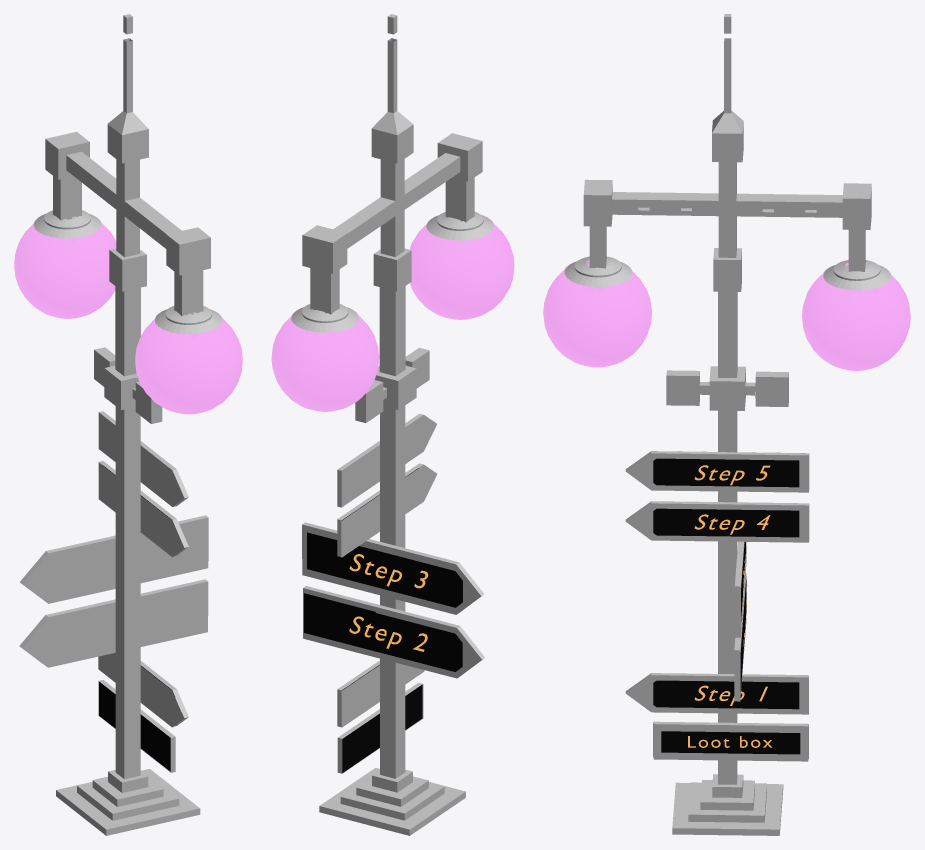
File: lamp.gltf
3 renders of one model, left to right at view 1: azimuth 30°, elevation 25°; view 2: azimuth 150°, elevation 25°; view 3: azimuth 270°, elevation 25°, orthographic.
Visible parts, largest first — view 1: lamp_body, poleLights; view 2: lamp_body, poleLights, lamp_sign_step2, lamp_sign_step3; view 3: lamp_body, poleLights.
Boxes of the visible parts, bbox=[...] form: lamp_body: bbox=[19, 14, 222, 835]; poleLights: bbox=[14, 216, 242, 414]; lamp_body: bbox=[291, 14, 493, 835]; poleLights: bbox=[271, 214, 514, 411]; lamp_sign_step2: bbox=[349, 616, 427, 651]; lamp_sign_step3: bbox=[349, 554, 428, 588]; lamp_body: bbox=[564, 14, 891, 835]; poleLights: bbox=[543, 259, 910, 370].
Bounding box in the file's own units: 1.81 × 7.43 × 3.11.
